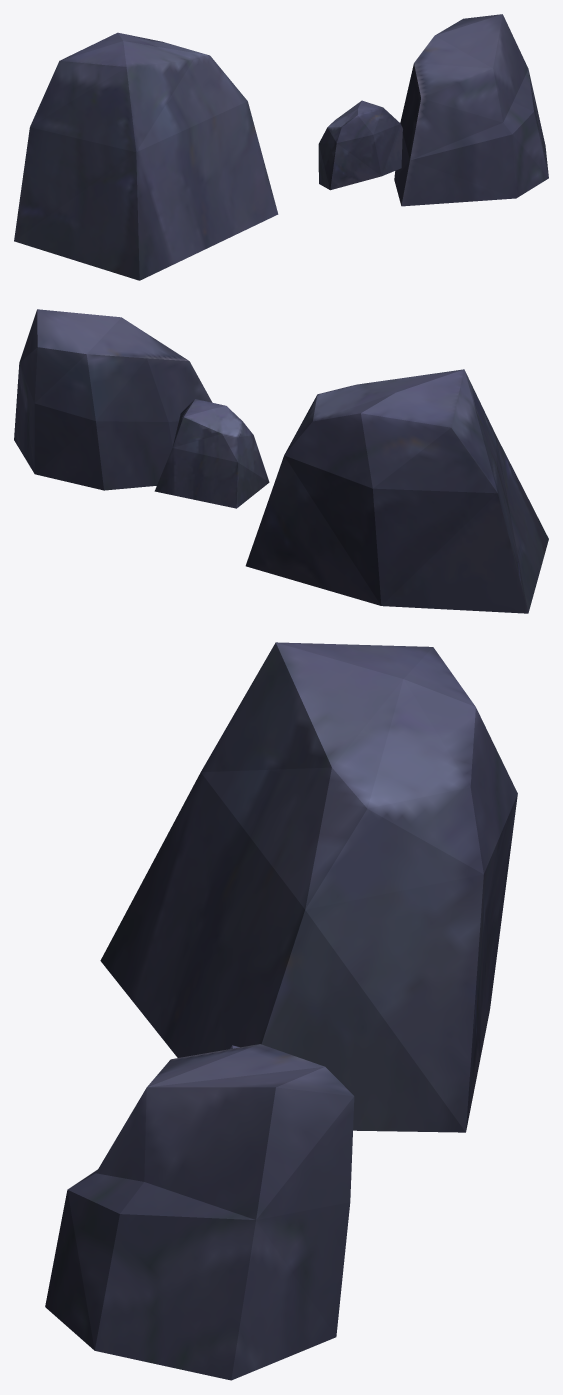
The model's file is Area09_16.fbx.
The picture shows the model from 3 angles, top to bottom: view 1: azimuth 30°, elevation 25°; view 2: azimuth 150°, elevation 25°; view 3: azimuth 270°, elevation 25°; orthographic projection. The views are drawn at different scales.
Parts seen in each view (by area): view 1: Area09_16; view 2: Area09_16; view 3: Area09_16.
Boxes of the visible parts, x1,y1,x2,y2 form: Area09_16: [14, 14, 548, 280]; Area09_16: [14, 309, 548, 613]; Area09_16: [45, 642, 517, 1380].
Bounding box in the file's own units: 794 × 268 × 330.
